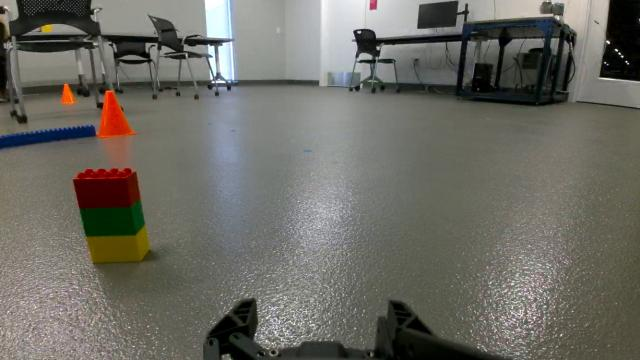lego: (53, 159, 180, 282)
